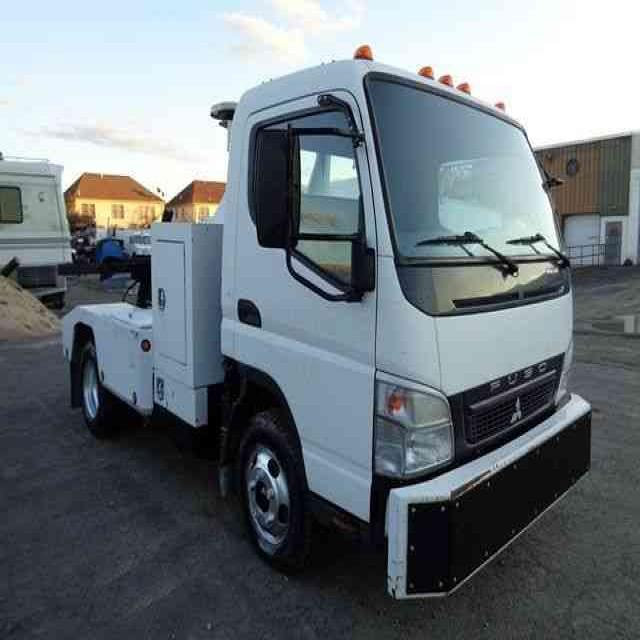truck: (62, 46, 591, 598)
